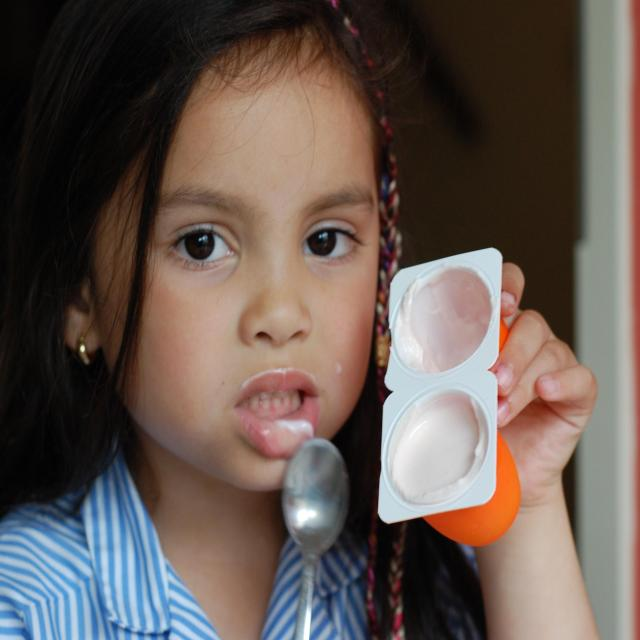no-glass: (150, 216, 366, 272)
